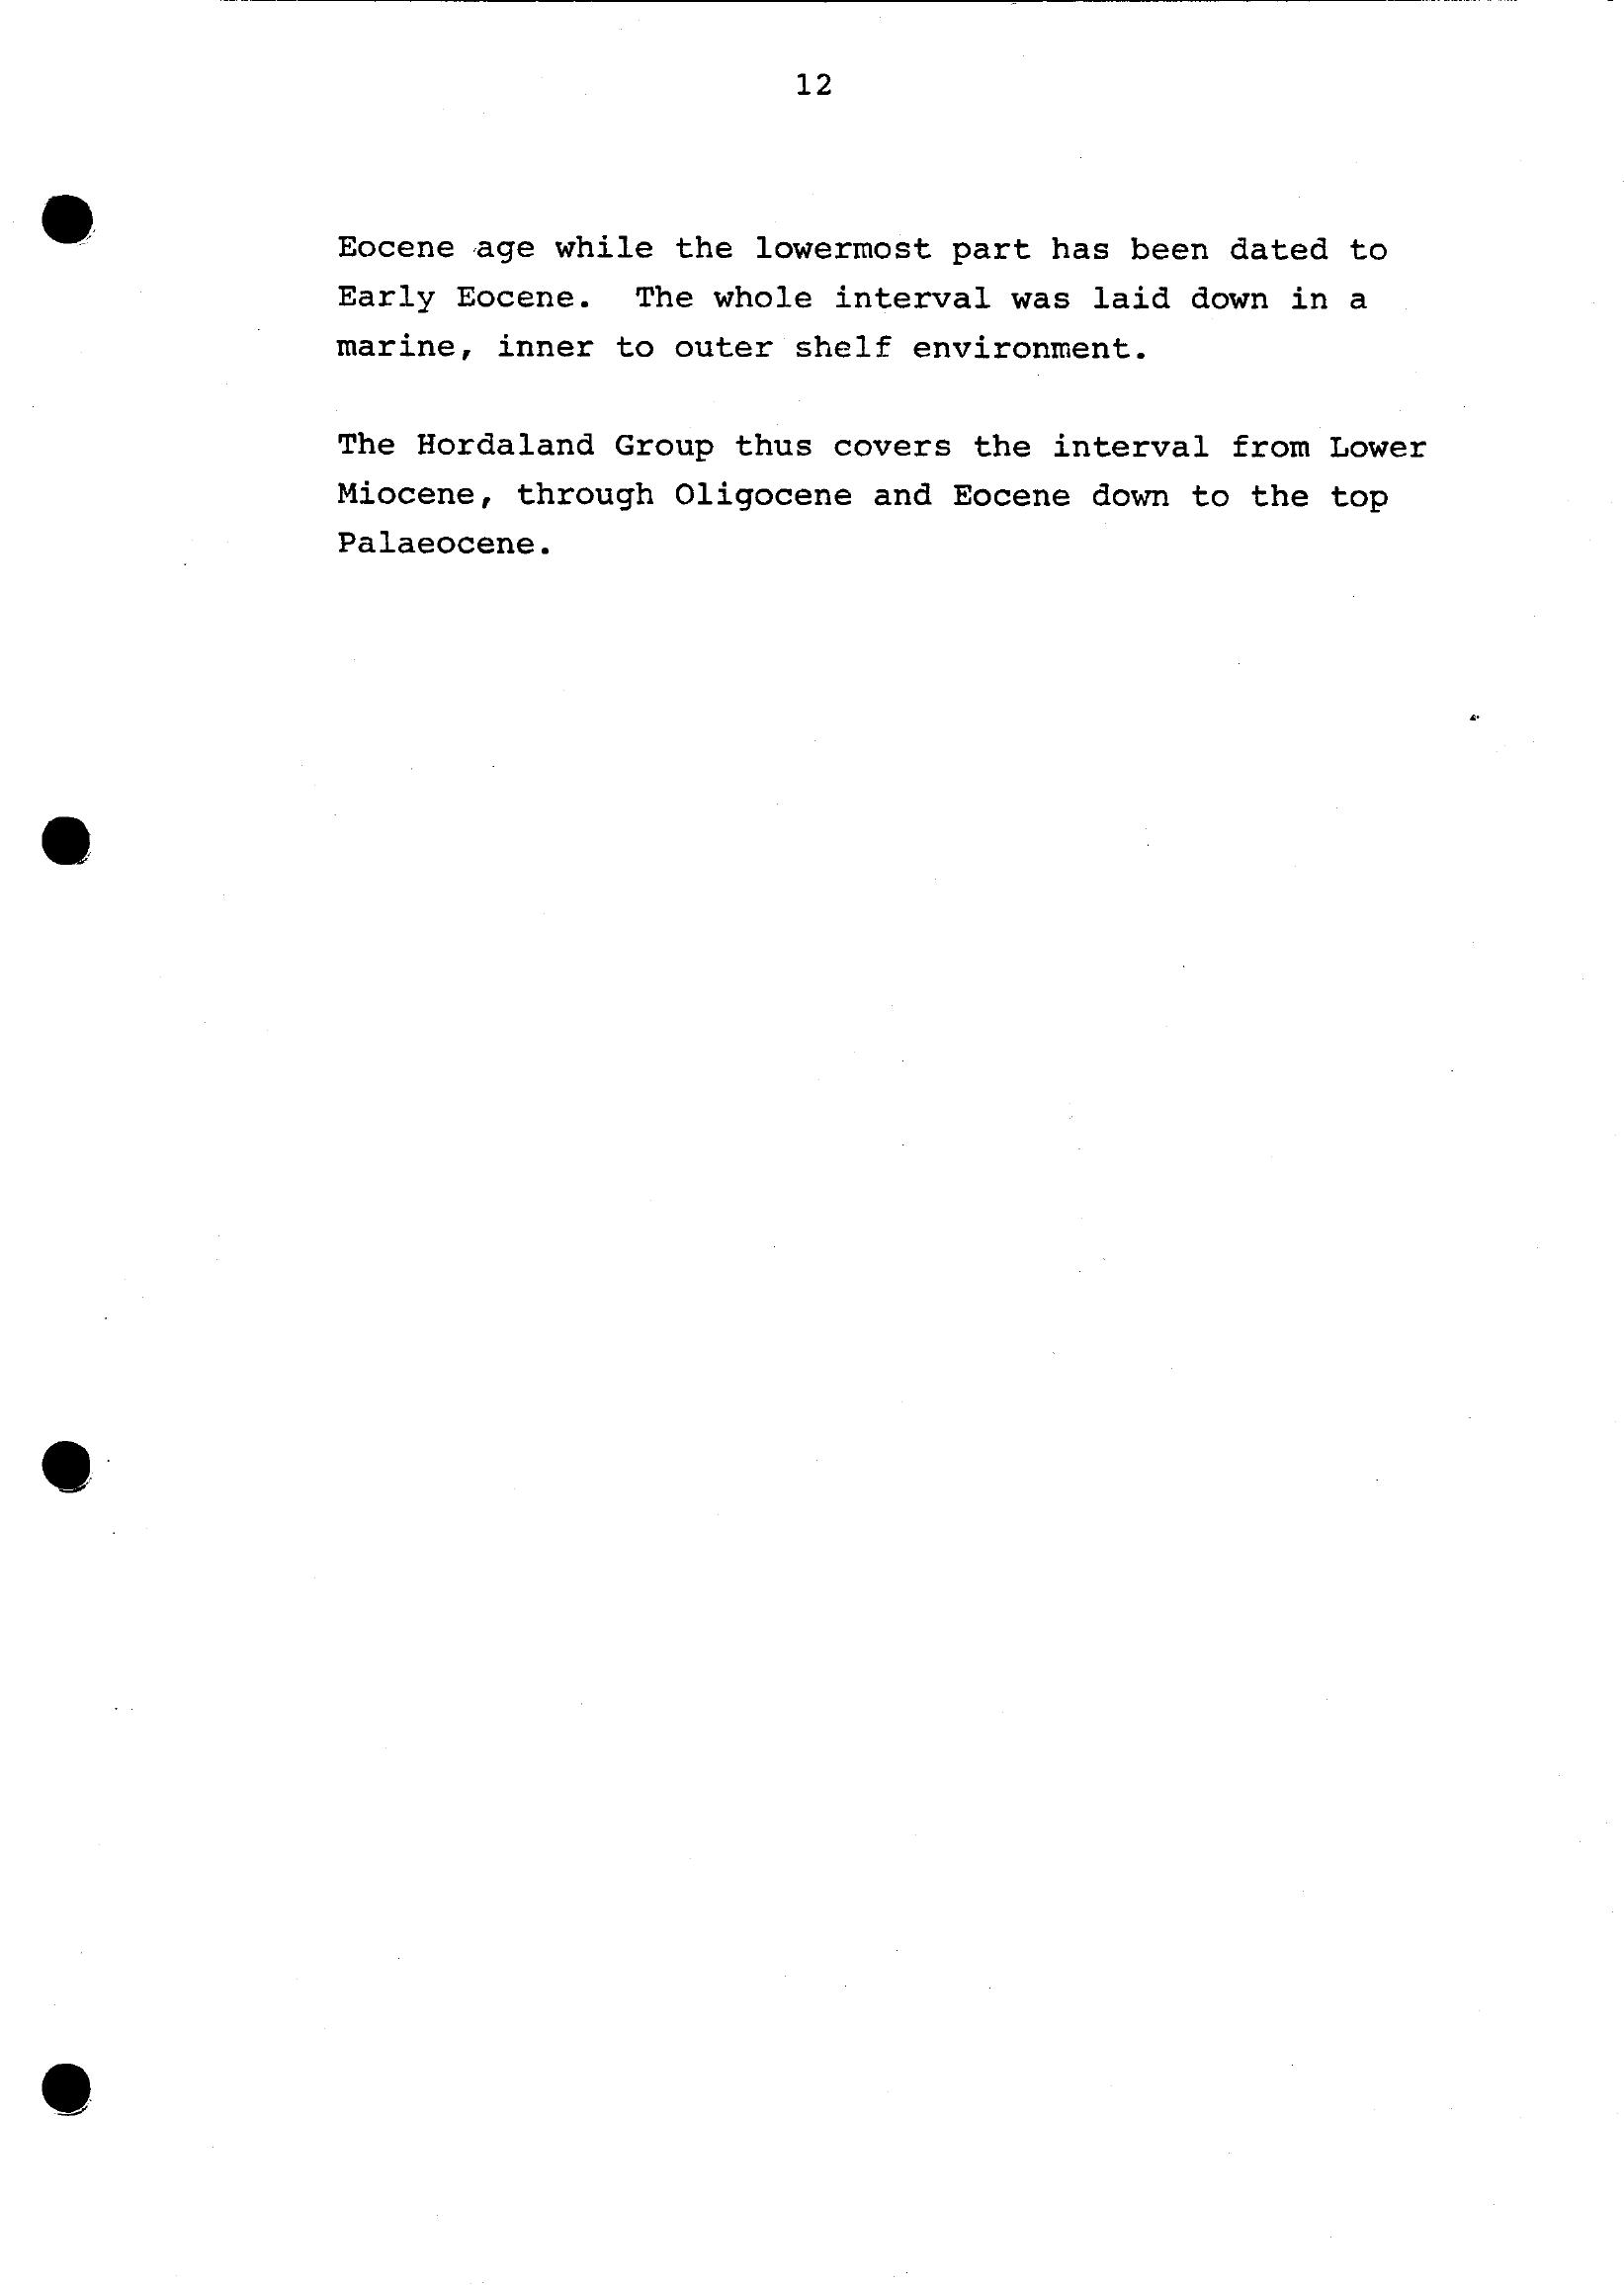text: (311, 195, 1462, 624)
